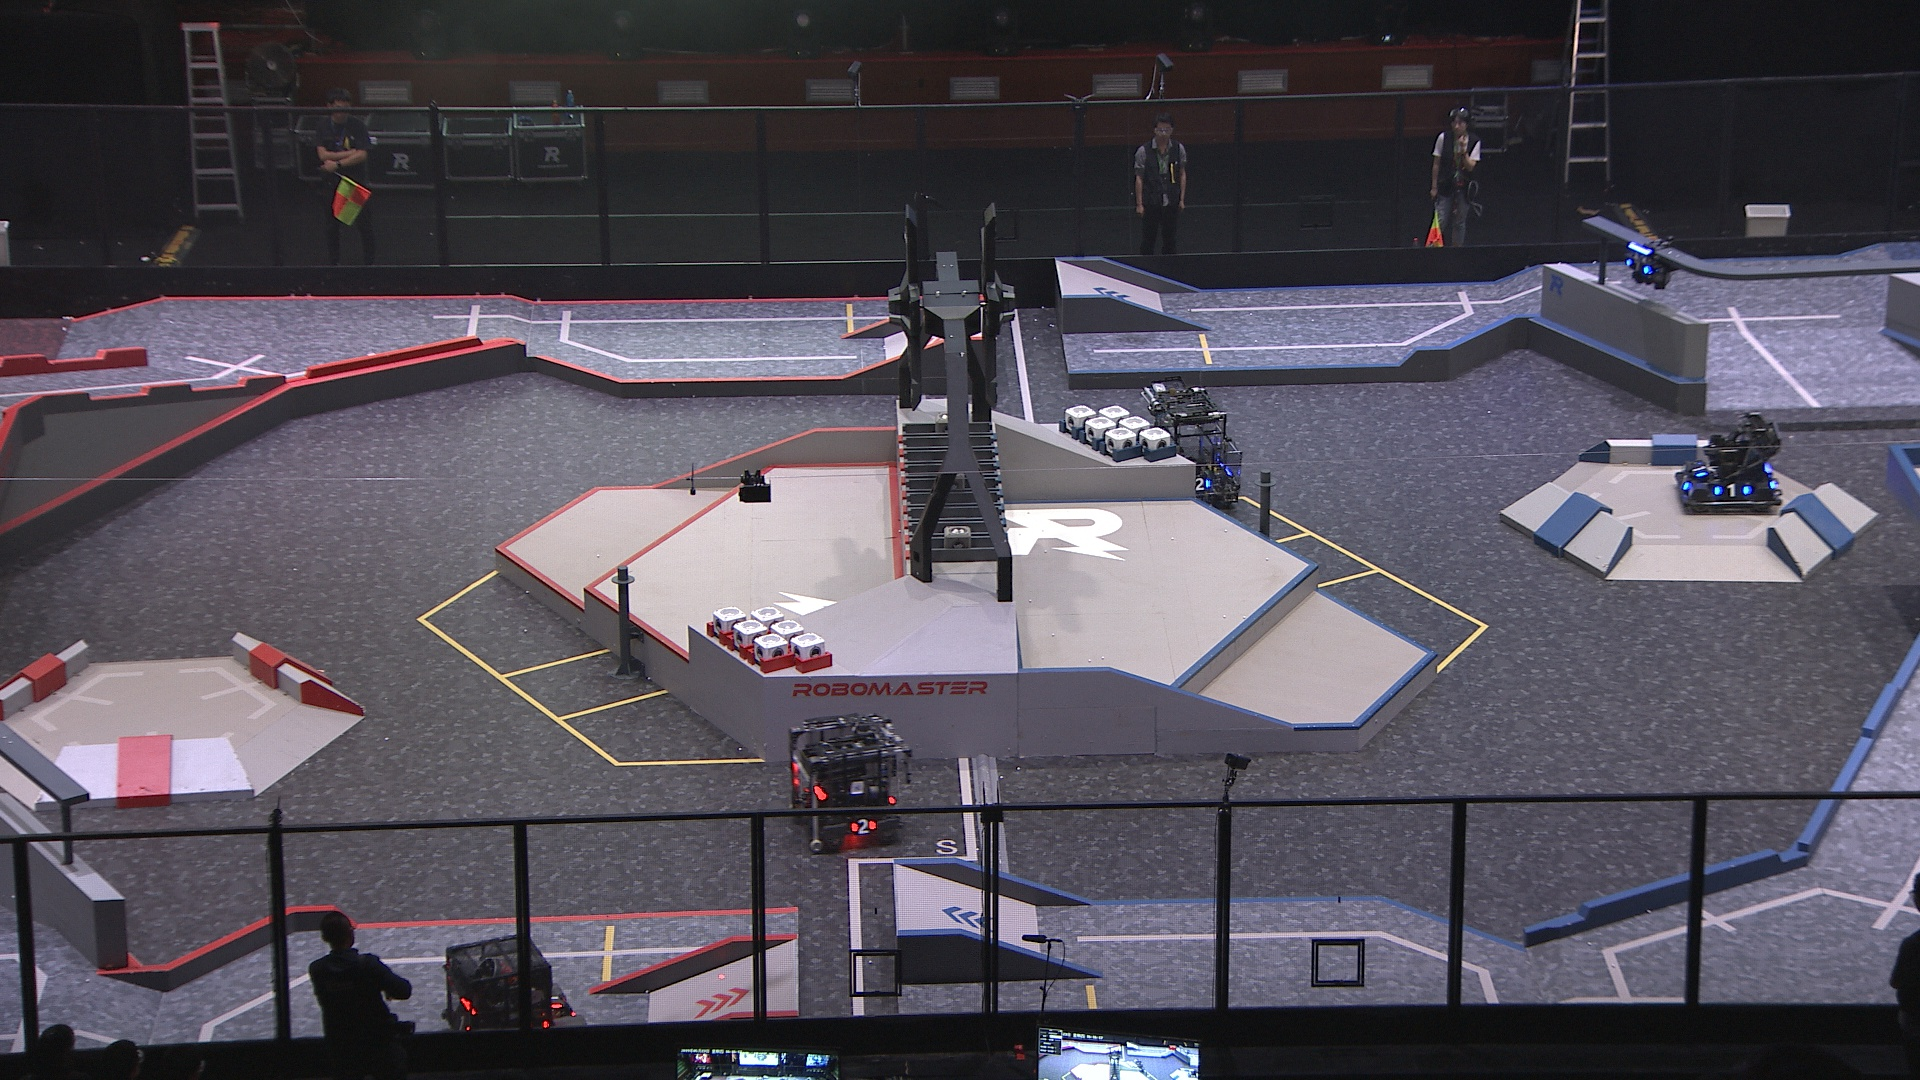armor: (1714, 483, 1751, 498), (851, 818, 880, 837), (448, 1011, 472, 1034), (1622, 257, 1651, 273), (1193, 476, 1215, 495), (1691, 463, 1712, 480), (546, 992, 564, 1010), (1676, 473, 1691, 493)
car: (442, 932, 588, 1059), (785, 713, 913, 855), (1129, 376, 1242, 509), (1669, 410, 1785, 514)
watcher: (1615, 233, 1681, 289)
